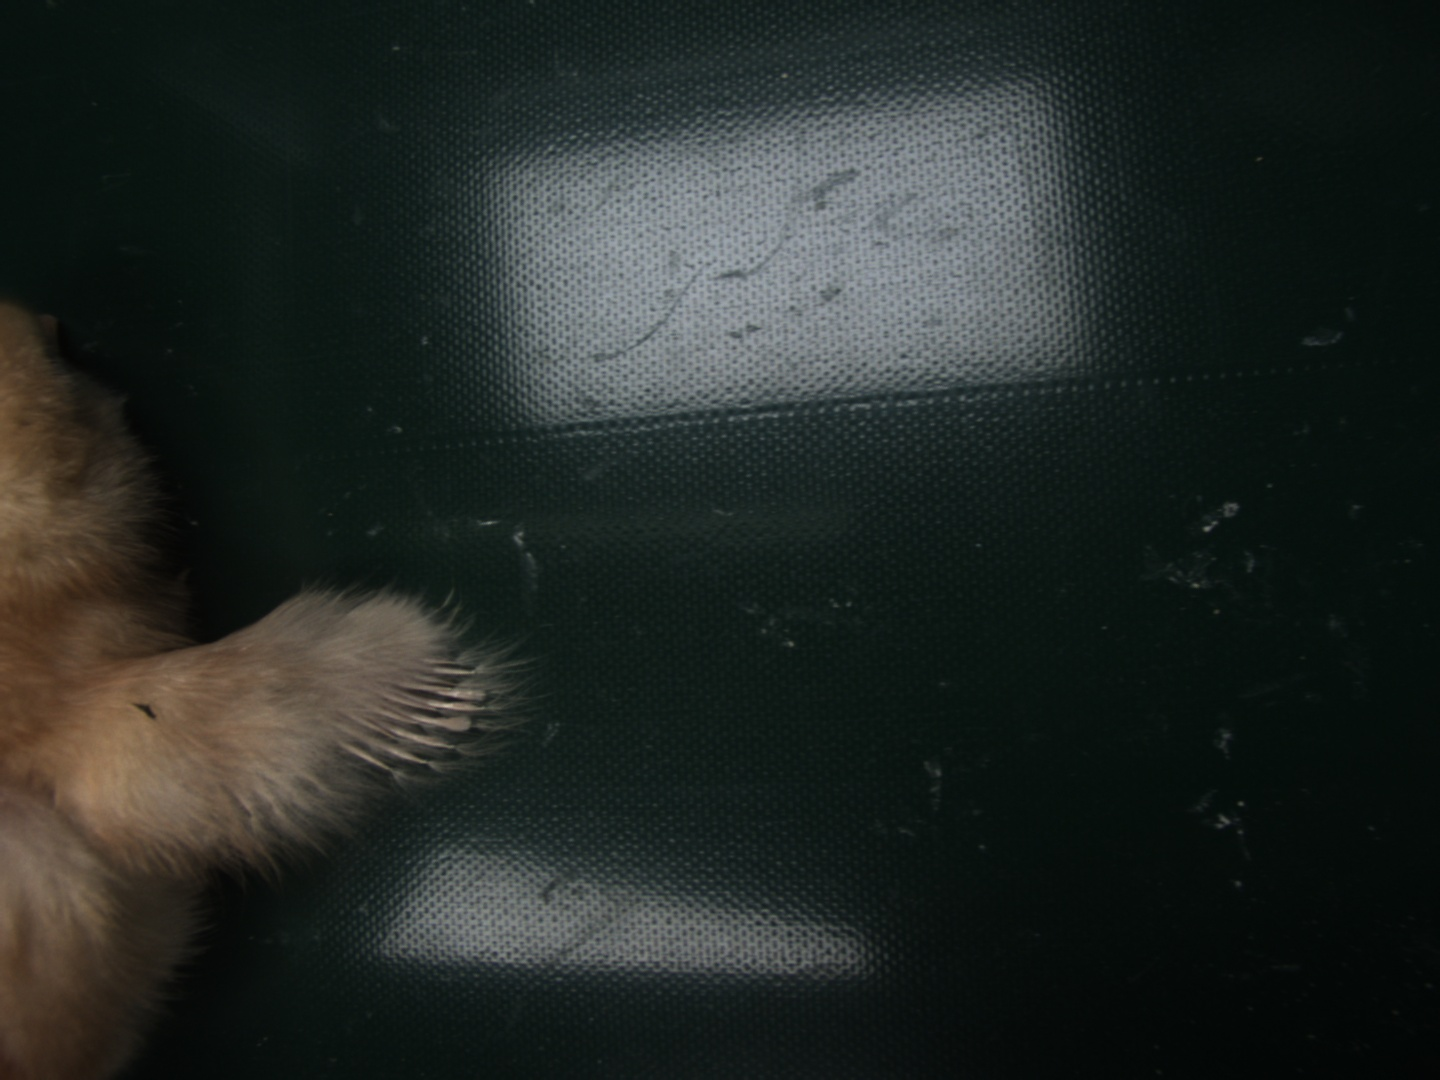female: (338, 657, 488, 783)
